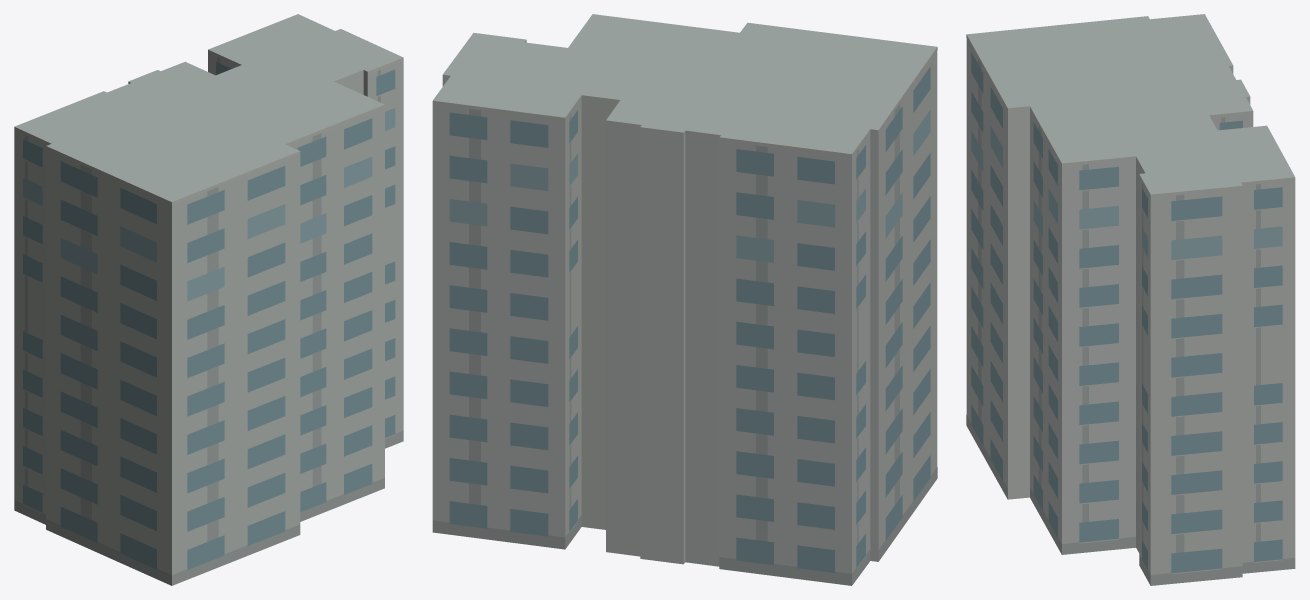
The model's file is survey-upis-32800070.glb.
The picture shows the model from 3 angles, left to right: view 1: azimuth 30°, elevation 25°; view 2: azimuth 150°, elevation 25°; view 3: azimuth 270°, elevation 25°; orthographic projection. The views are drawn at different scales.
Parts seen in each view (by area): view 1: survey-upis-32800070.tmp; view 2: survey-upis-32800070.tmp; view 3: survey-upis-32800070.tmp.
Part boxes in pixels (x1=…): survey-upis-32800070.tmp: x1=14, y1=14, x2=403, y2=585; survey-upis-32800070.tmp: x1=432, y1=14, x2=937, y2=585; survey-upis-32800070.tmp: x1=966, y1=14, x2=1295, y2=585.
Size of the model in its own units: 29 by 29.3 by 22.33.
